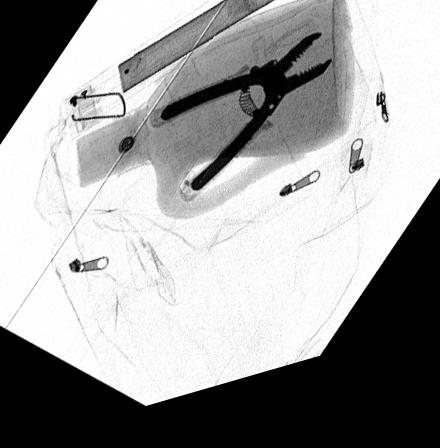Pliers: (156, 49, 332, 204)
